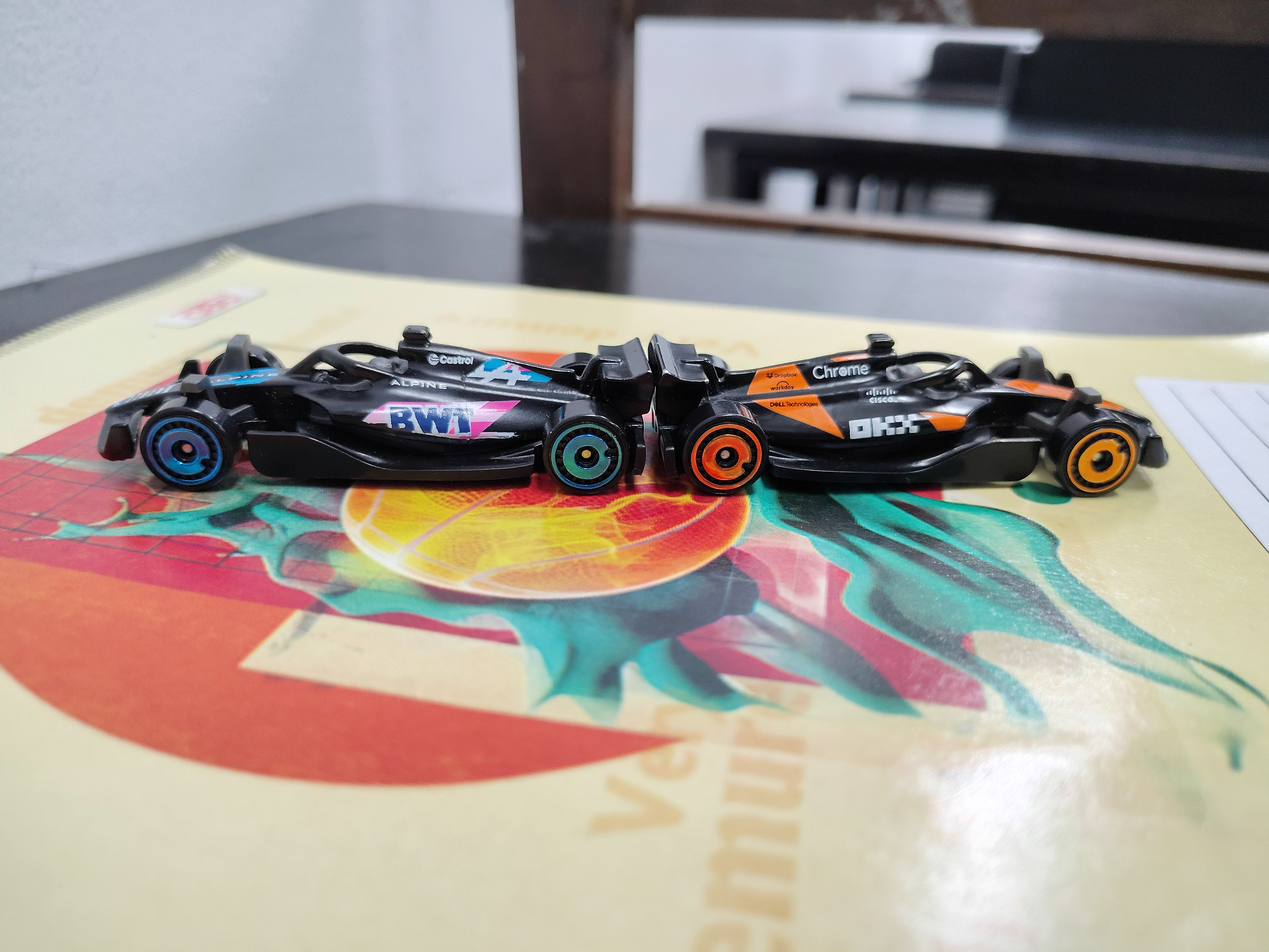Alpine A524: (43, 285, 657, 513)
McLaren MCL40: (648, 267, 1191, 522)
